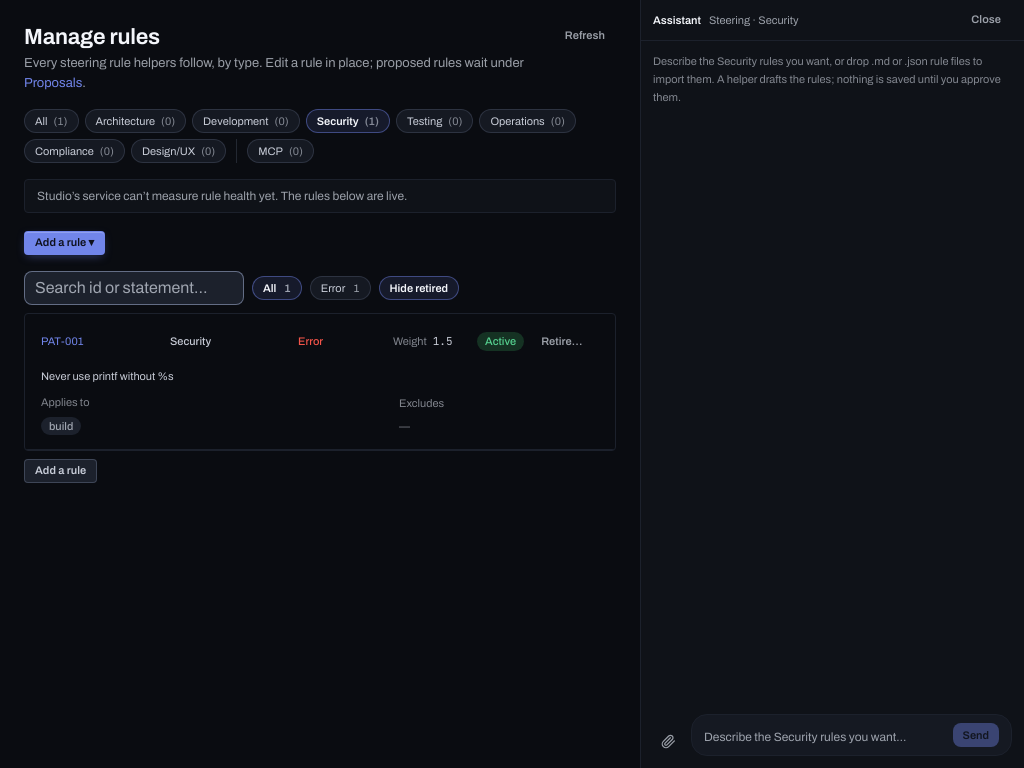
it: SteeringPage — the optimistic commit discipline (the shell around the grid) › a cell commit posts the exact body, applies optimistically, and reloads for the server
This screenshot has width=1024, height=768.
Check: the row with test id "steering-grid-row" is shown, box [25, 314, 615, 450]
Step 1. Select "Critical" in the dropdown with test id "steering-cell-severity" → (335, 342), box [289, 330, 381, 354]
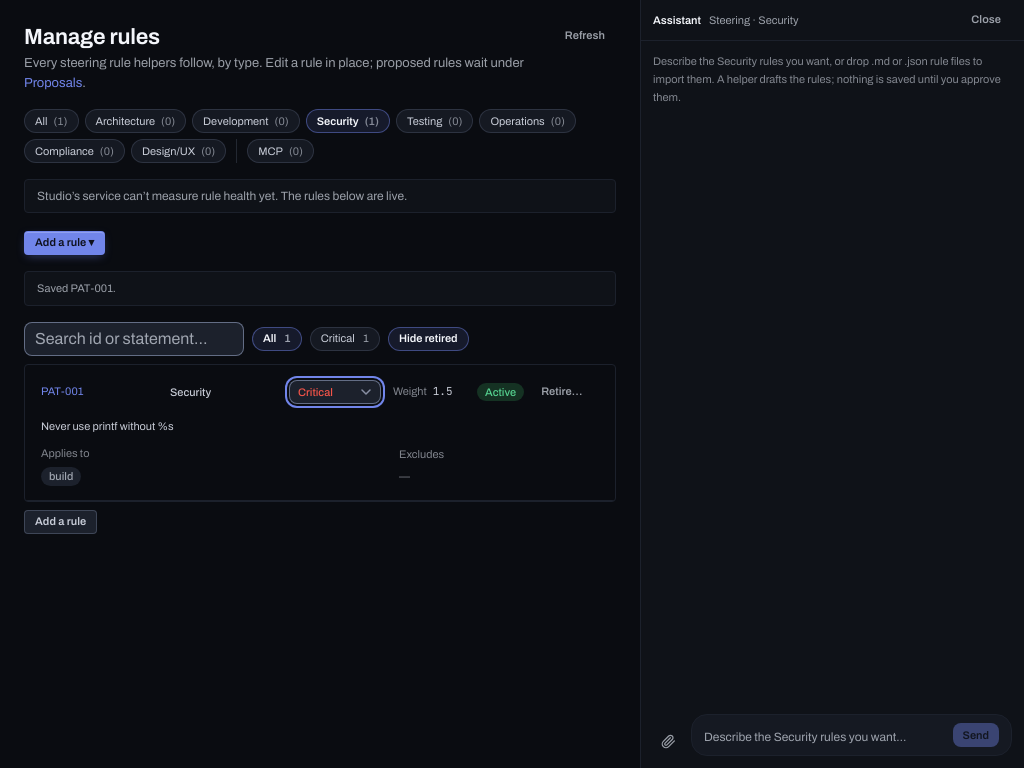
Check: the text with test id "steering-saved-note" reads "Saved PAT-001.", box [37, 282, 116, 294]
